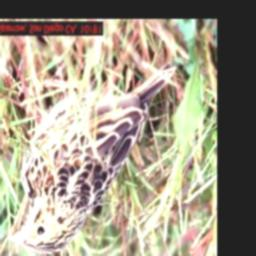Sparrow: (2, 57, 180, 256)
